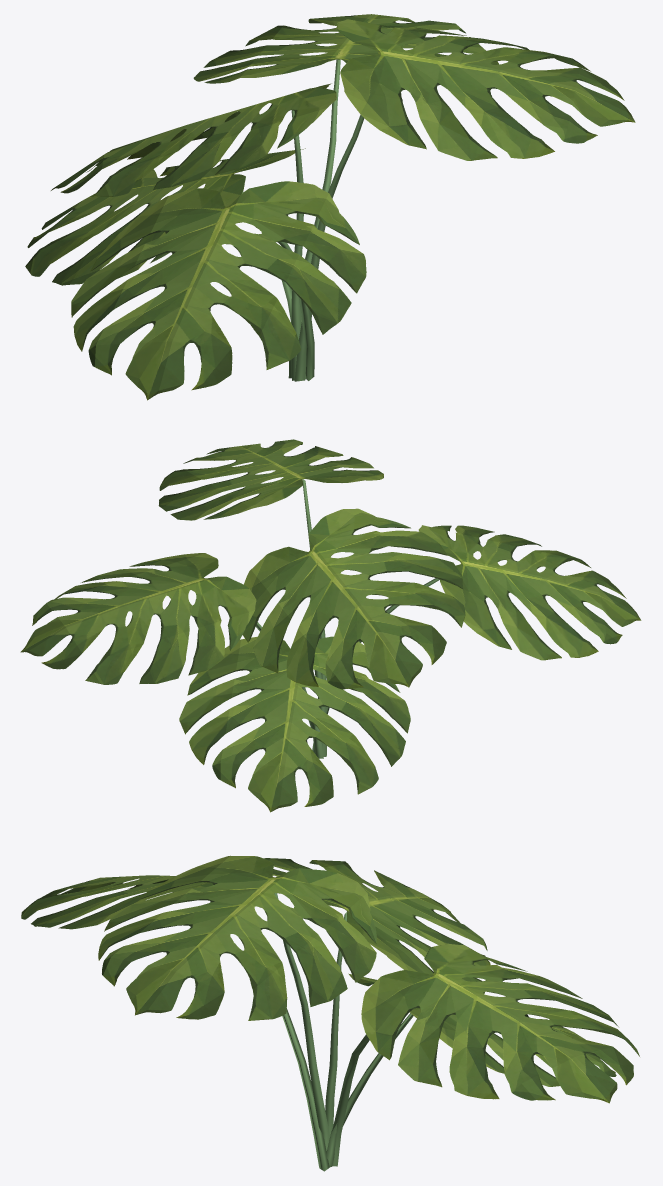
Rendered from Monstera_02.fbx.
3 renders of one model, top to bottom at view 1: azimuth 30°, elevation 25°; view 2: azimuth 150°, elevation 25°; view 3: azimuth 270°, elevation 25°, orthographic. The views are drawn at different scales.
Parts seen in each view (by area): view 1: Monstera_02; view 2: Monstera_02; view 3: Monstera_02.
Part boxes in pixels (left/top/right/bottom): Monstera_02: left=25, top=14, right=635, bottom=400; Monstera_02: left=20, top=439, right=641, bottom=812; Monstera_02: left=21, top=855, right=639, bottom=1171.
Size of the model in its own units: 108 by 110 by 61.33.
2 materials, 1 textured.
